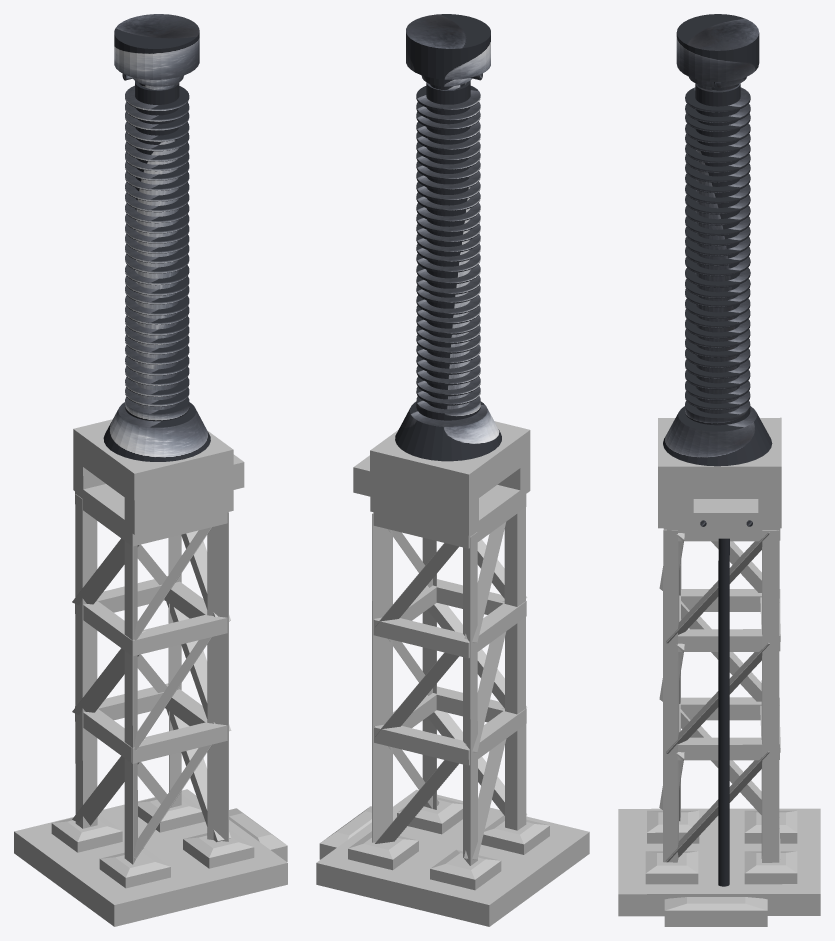
Rendered from Modelo1_115.fbx.
3 renders of one model, left to right at view 1: azimuth 30°, elevation 25°; view 2: azimuth 150°, elevation 25°; view 3: azimuth 270°, elevation 25°, orthographic.
Visible parts, largest first — view 1: Cube.137; view 2: Cube.137; view 3: Cube.137.
Part boxes in pixels (x1,y1,x2,y2): Cube.137: (14, 14, 287, 926); Cube.137: (316, 14, 589, 926); Cube.137: (618, 14, 820, 926).
Bounding box in the file's own units: 171 × 697 × 152.
